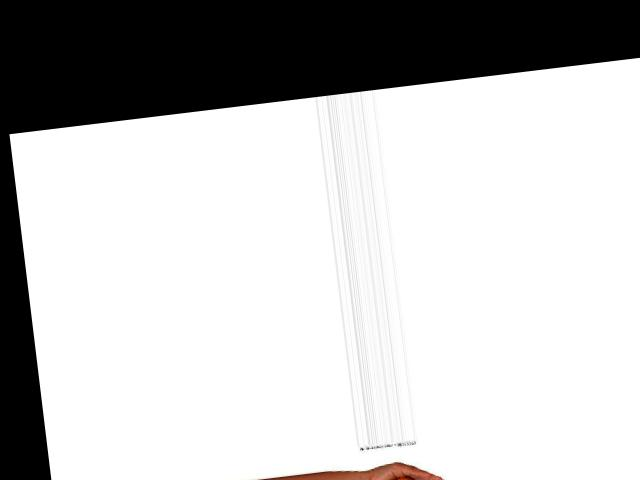egg: (391, 474, 420, 480)
